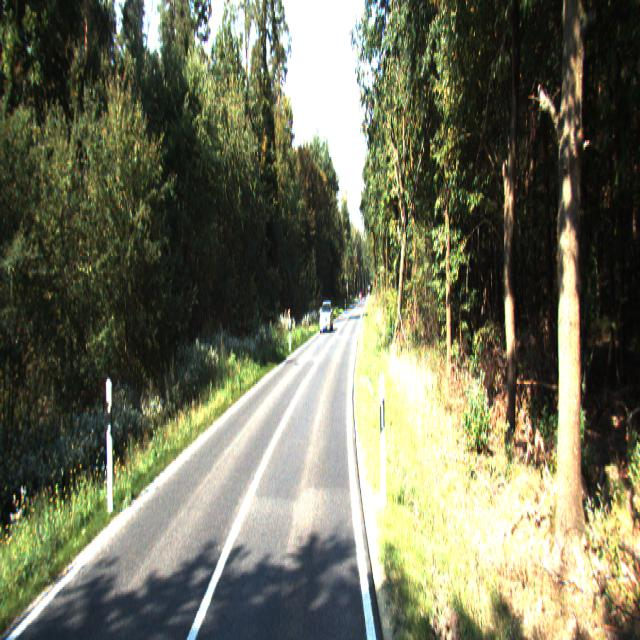Car: (319, 300, 334, 333)
